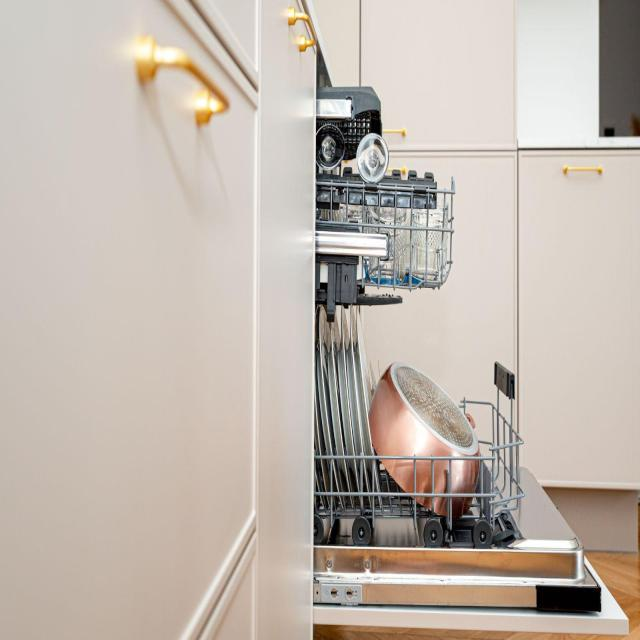dishwasher: (314, 51, 631, 640)
